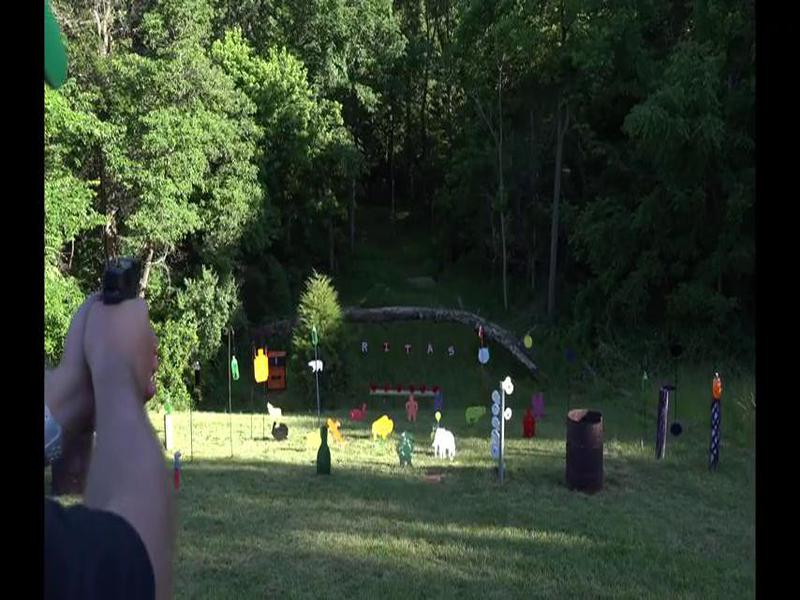Pistola: (91, 242, 170, 330)
